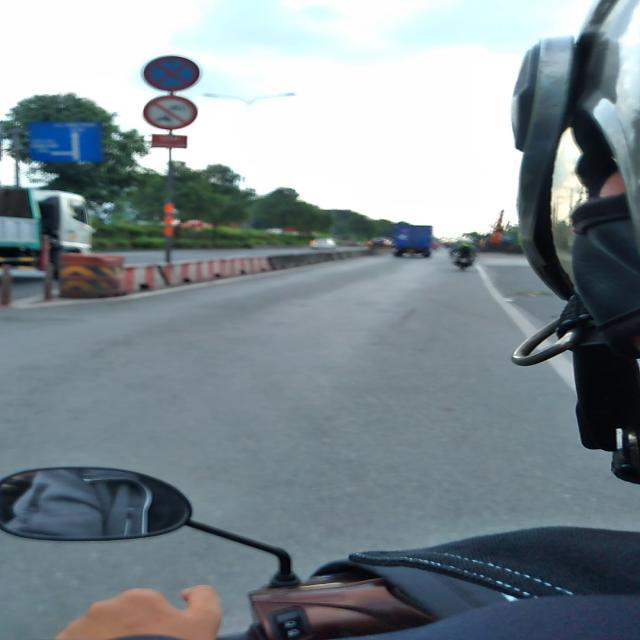Cam con lai: (139, 94, 200, 131)
Cam dung va do: (141, 55, 200, 91)
